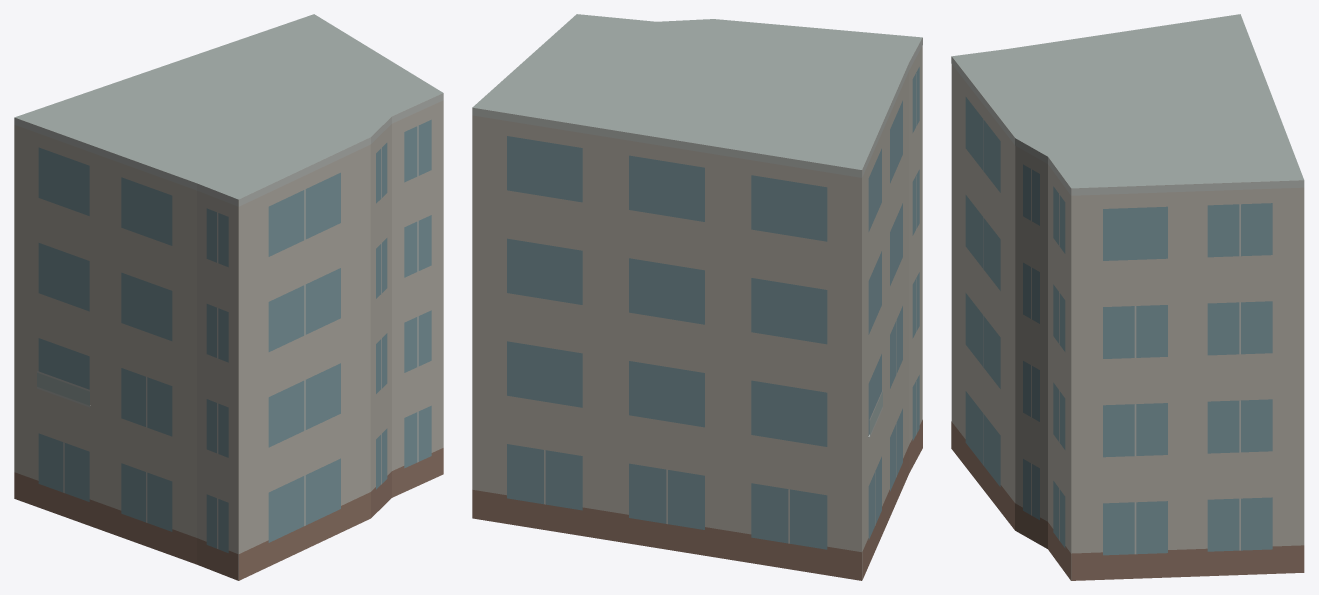
Rendered from survey-upis-32470764.glb.
3 renders of one model, left to right at view 1: azimuth 30°, elevation 25°; view 2: azimuth 150°, elevation 25°; view 3: azimuth 270°, elevation 25°, orthographic. The views are drawn at different scales.
Parts seen in each view (by area): view 1: survey-upis-32470764.tmp; view 2: survey-upis-32470764.tmp; view 3: survey-upis-32470764.tmp.
Part boxes in pixels (box(x1,y1,x2,y2)): survey-upis-32470764.tmp: box(14, 14, 443, 580); survey-upis-32470764.tmp: box(472, 14, 922, 580); survey-upis-32470764.tmp: box(951, 14, 1304, 580).
Size of the model in its own units: 12.3 by 12.9 by 10.52.
